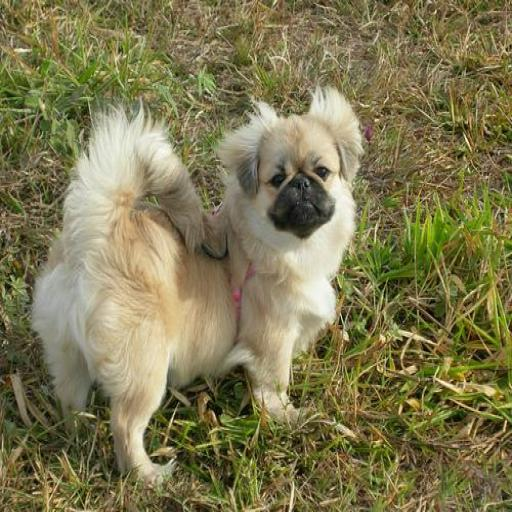dog_face: (218, 101, 363, 244)
